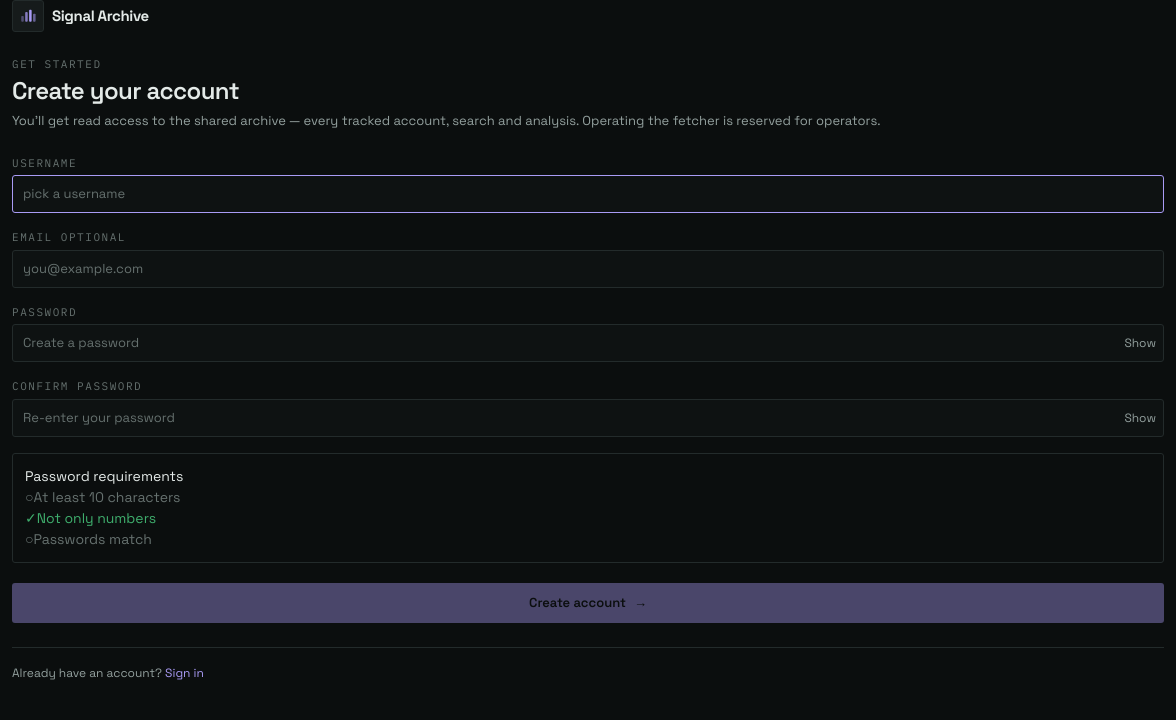
it: Signup form › surfaces a password the server rejects even though the local rules passed
Type "carol" into the field labelled "Username" at (588, 194), box [12,175,1164,213]
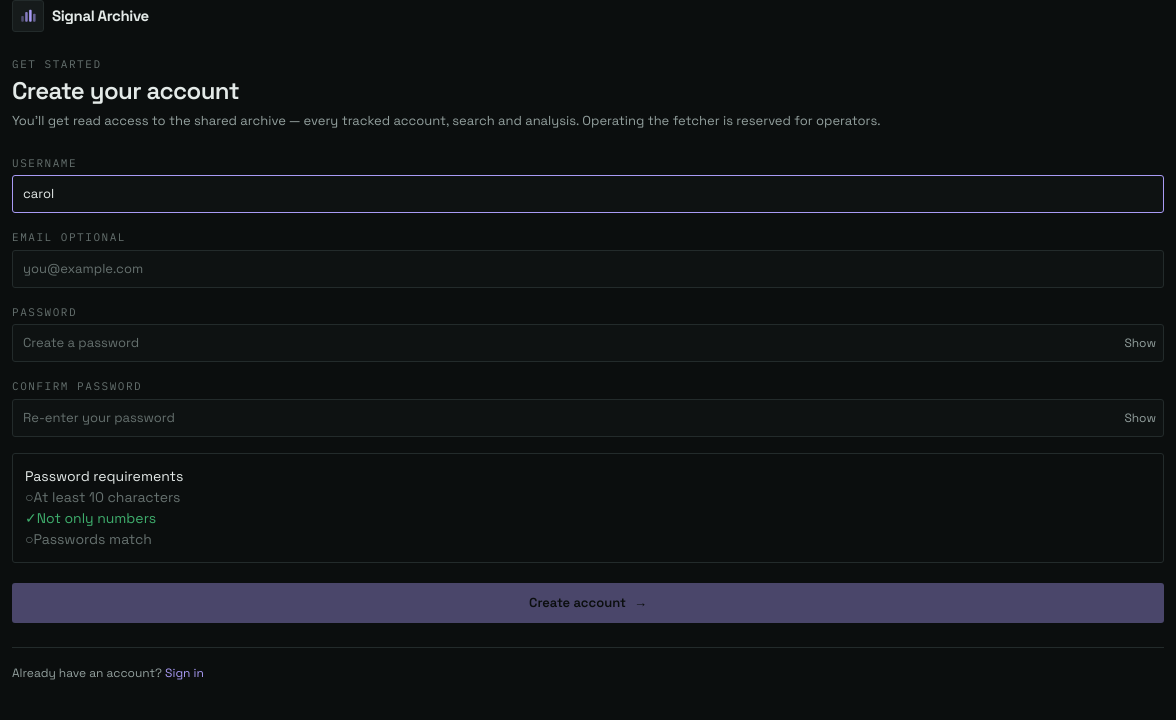
Type "Correct-Horse-9" into the password field labelled "Password" at (588, 343), box [12,324,1164,362]
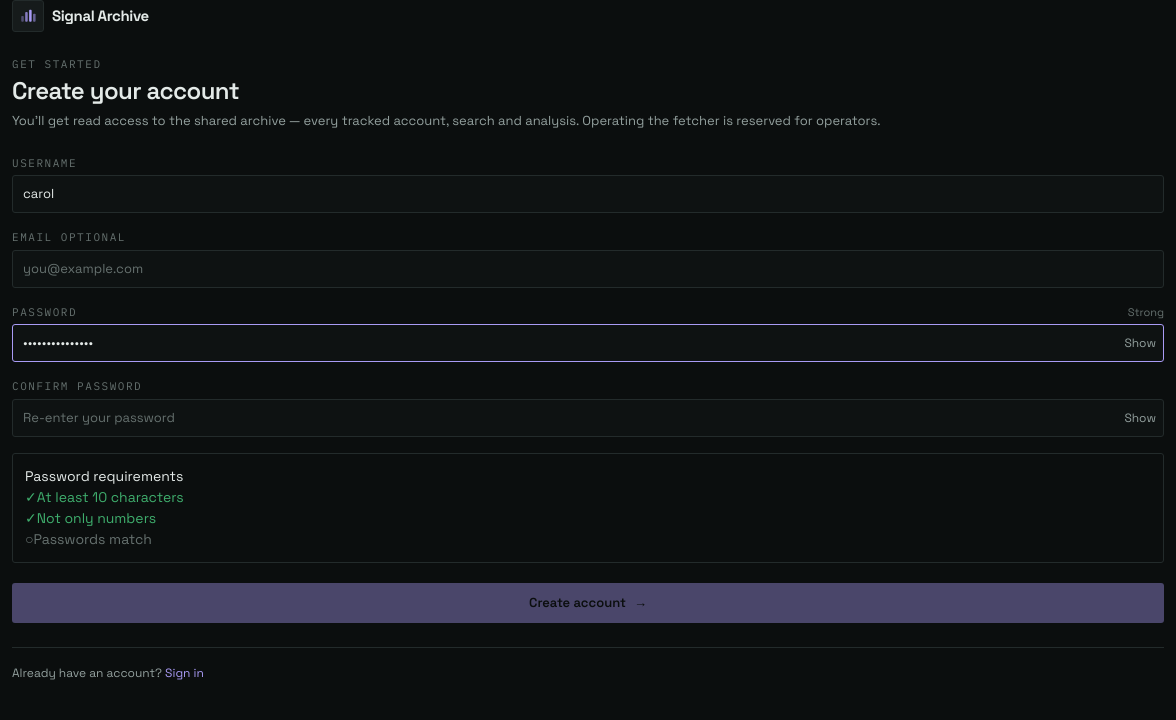
Type "Correct-Horse-9" into the password field labelled "Confirm password" at (588, 418), box [12,398,1164,436]
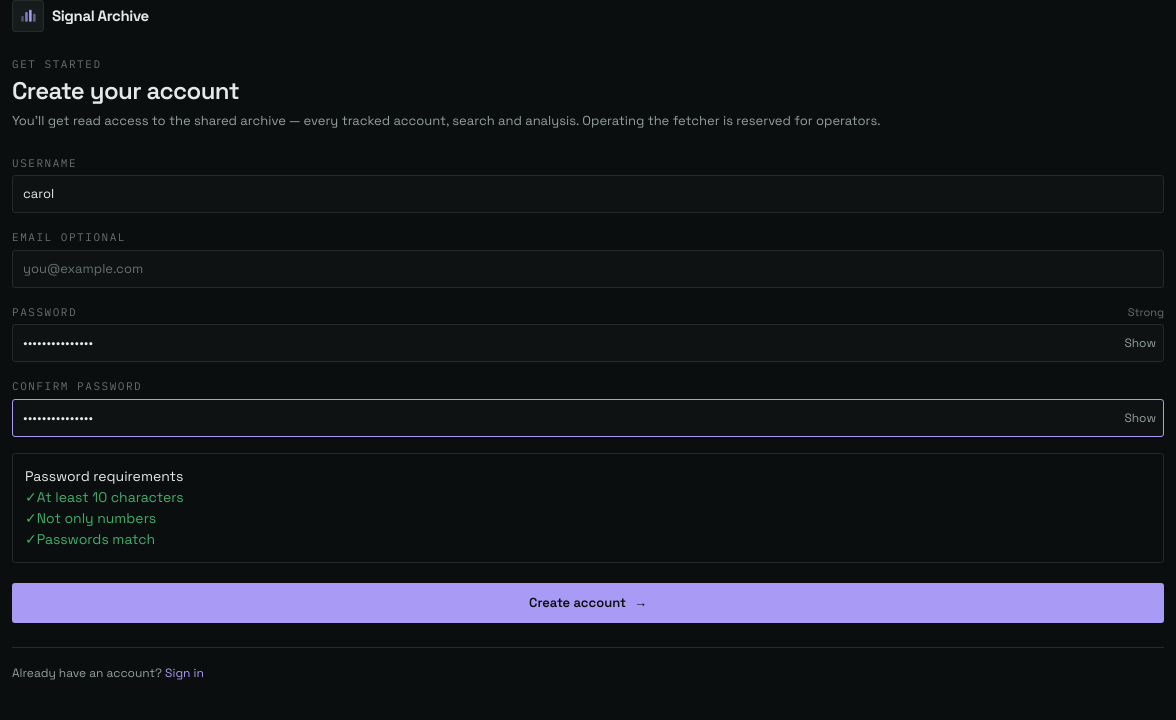
Click the button "Create account →" at (588, 602), box [12,582,1164,622]
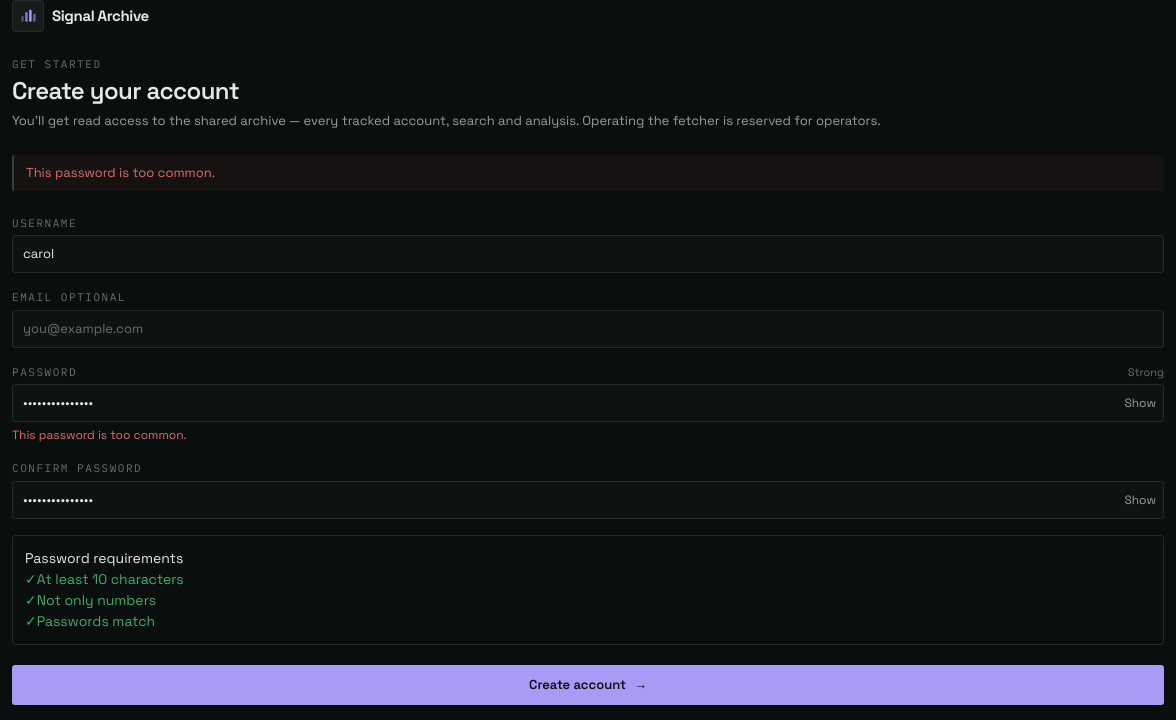
Now the message reads "This password is too common.", box [26,164,215,180]
